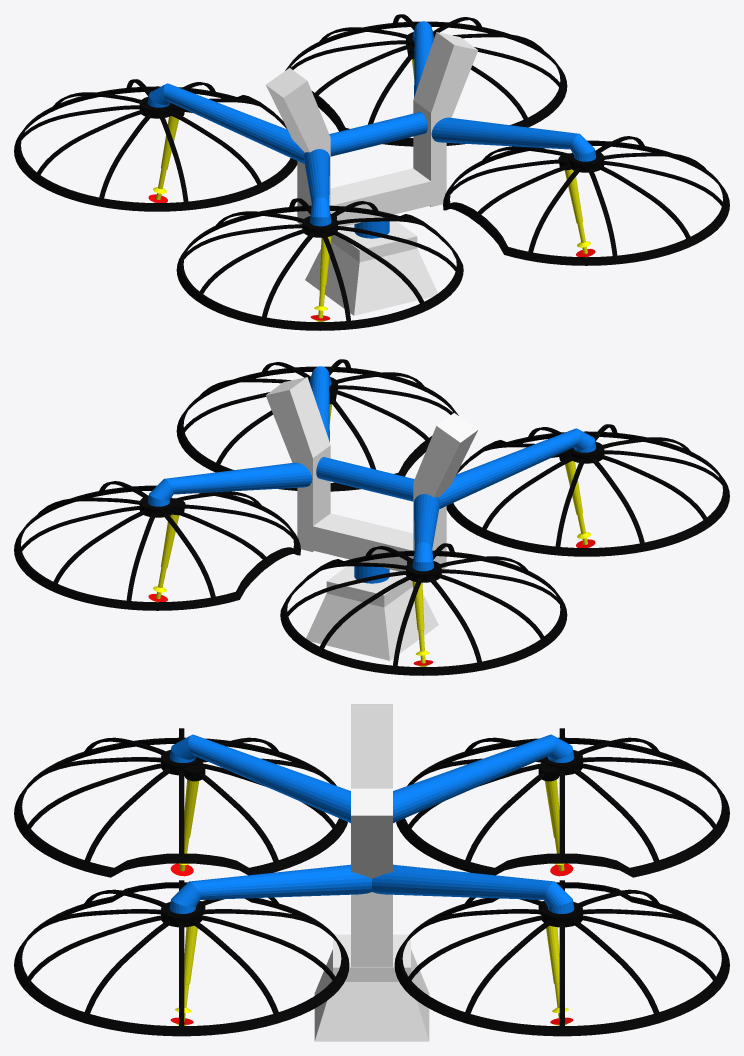
Rendered from SM High gain antenna dish structure.obj.
3 views of the same model, one above another, from view 1: azimuth 30°, elevation 25°; view 2: azimuth 150°, elevation 25°; view 3: azimuth 270°, elevation 25° (orthographic). The views are drawn at different scales.
Visible parts, largest first — view 1: Mesh, Mesh.003, Mesh.004, Mesh.001; view 2: Mesh, Mesh.003, Mesh.004, Mesh.001; view 3: Mesh, Mesh.004, Mesh.003, Mesh.001, Mesh.002.
Part boxes in pixels (x1,y1,x2,y2): Mesh: (14, 14, 729, 330); Mesh.003: (266, 32, 478, 315); Mesh.004: (147, 21, 596, 238); Mesh.001: (153, 59, 590, 321); Mesh: (14, 359, 729, 675); Mesh.003: (265, 377, 477, 660); Mesh.004: (147, 366, 596, 583); Mesh.001: (153, 404, 590, 666); Mesh: (14, 728, 729, 1036); Mesh.004: (169, 734, 574, 913); Mesh.003: (314, 704, 429, 1041); Mesh.001: (175, 779, 568, 1025); Mesh.002: (170, 863, 573, 1024).
Size of the model in its own units: 1.69 by 0.7271 by 1.74.
